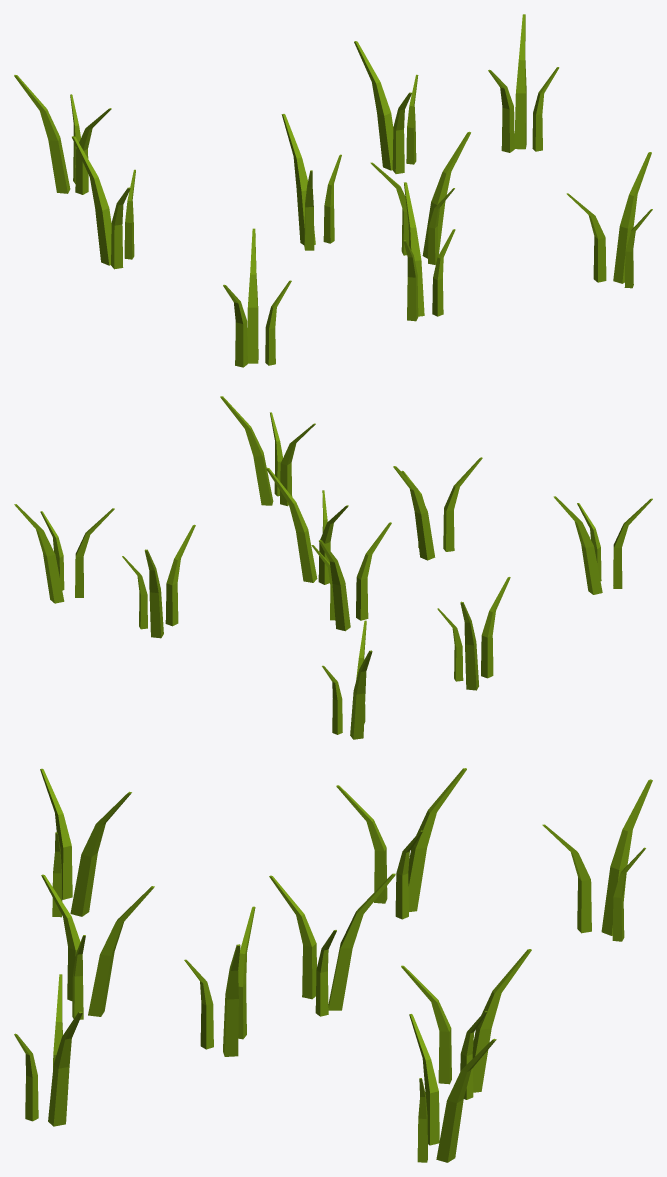
File: Grass.fbx
The picture shows the model from 3 angles, top to bottom: view 1: azimuth 30°, elevation 25°; view 2: azimuth 150°, elevation 25°; view 3: azimuth 270°, elevation 25°; orthographic projection. The views are drawn at different scales.
Parts seen in each view (by area): view 1: Grass; view 2: Grass; view 3: Grass.
Boxes of the visible parts, x1,y1,x2,y2 form: Grass: (14, 14, 652, 367); Grass: (14, 396, 652, 739); Grass: (14, 768, 652, 1162).
Bounding box in the file's own units: 164 × 35.23 × 153.
